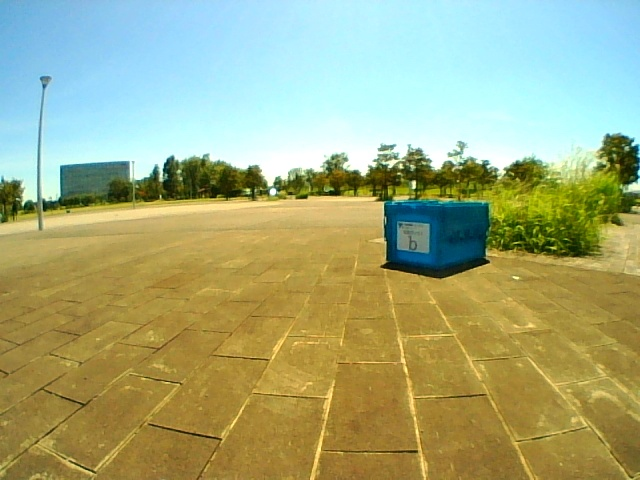blue_box: (386, 203, 488, 262)
tag_b: (397, 224, 428, 252)
